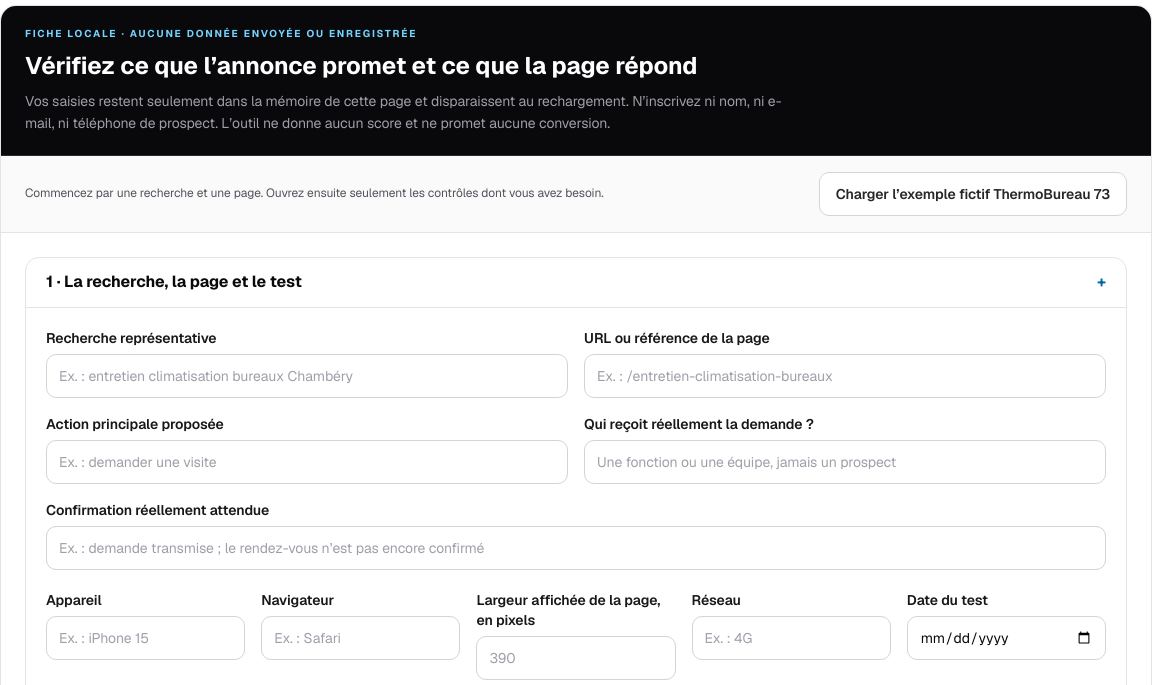
LandingPageContinuityWorksheet › copies context, lines, tests, unknowns and the decision when permission is granted
Click the button "Charger l’exemple fictif ThermoBureau 73": [973, 194] box [819,172,1127,216]
(page scrolled)
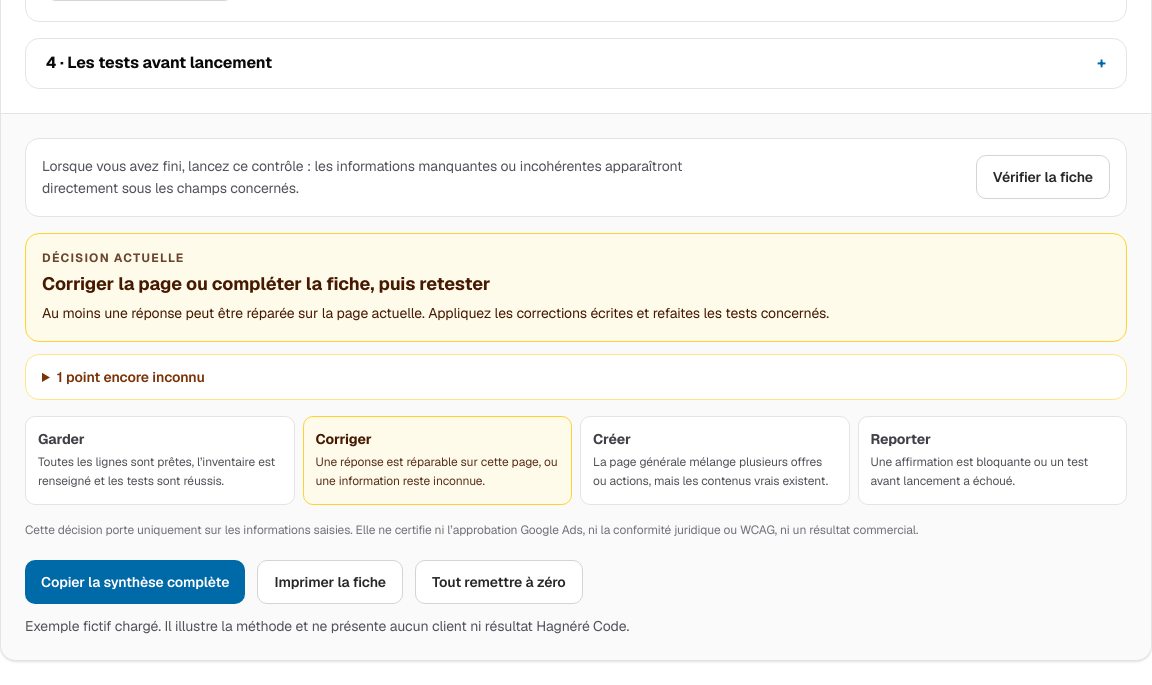
Click the button "Copier la synthèse complète": [135, 582] box [25,560,246,604]
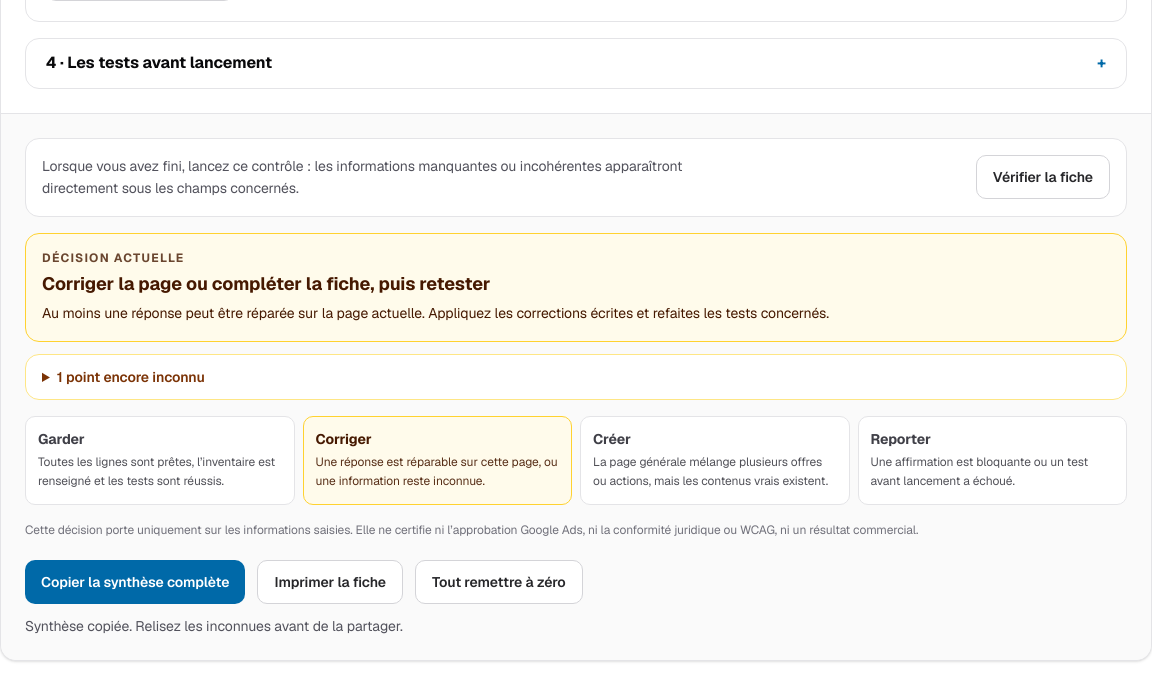
Expected: the text "Synthèse copiée" is shown, [25,618,403,636]
